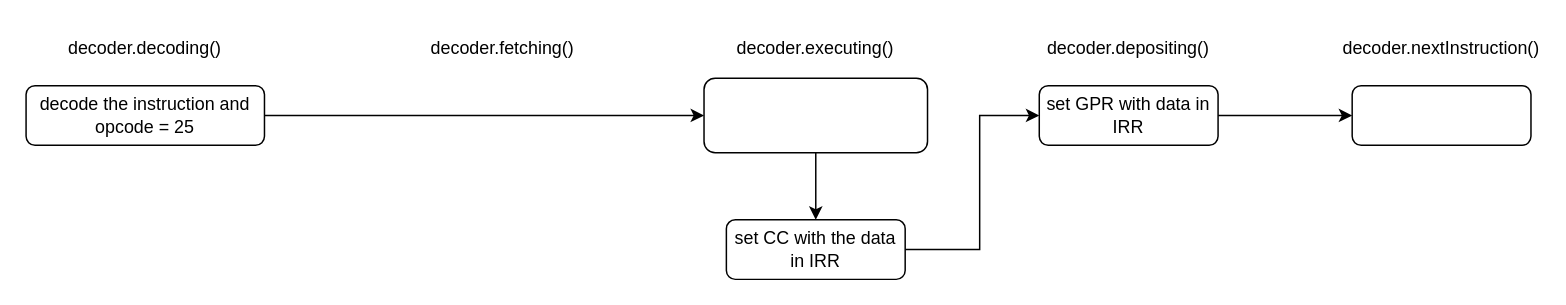
Image size: 1566x305. Some labels were removed from this diagram. Each missing label, with the centre of its shape:
"call function in ALU to calculate Shift then store the result to IRR" belongs at point 815,115.
"set pc = pc + 1" belongs at point 1441,114.
